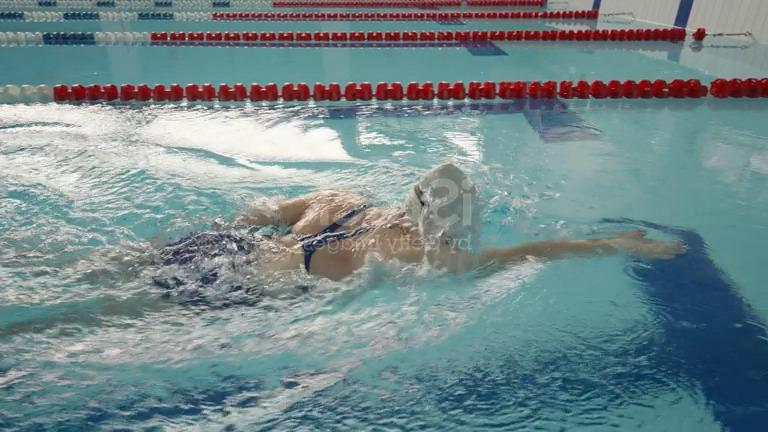Swimming: (87, 94, 725, 383)
